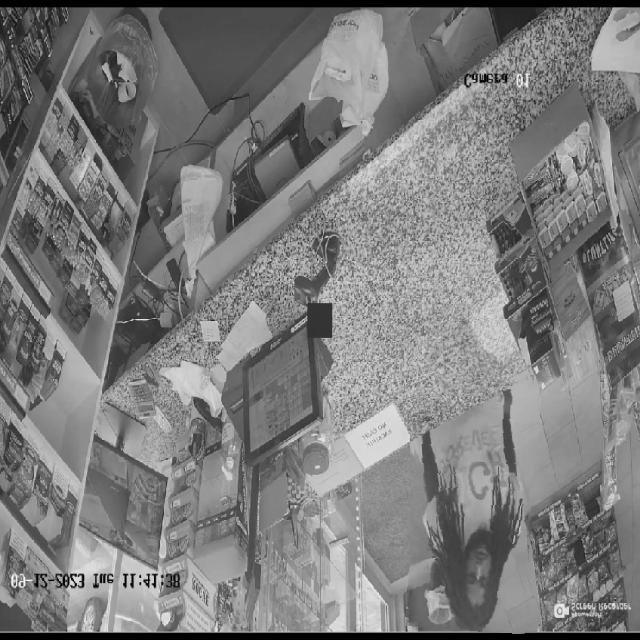normal: (410, 374, 538, 632)
